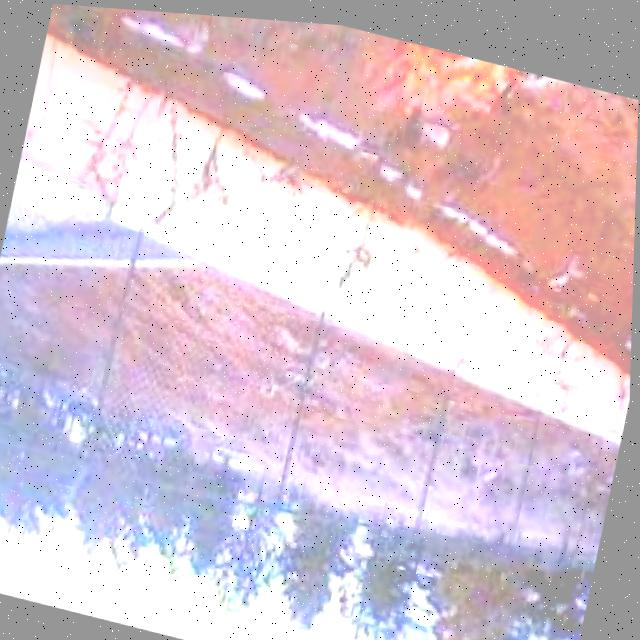Fire: (365, 27, 552, 145)
